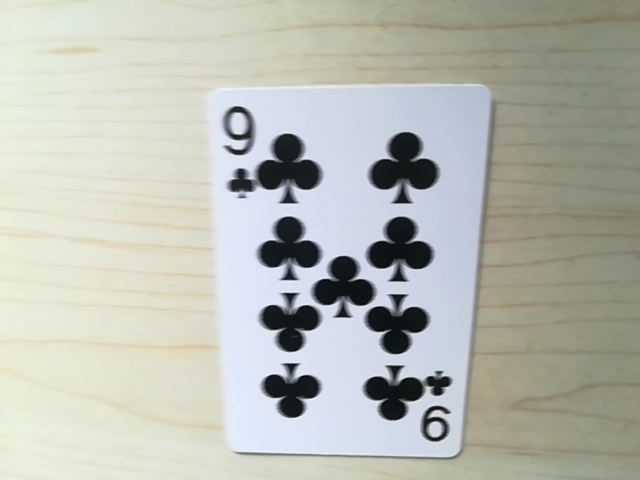mh 9: (210, 96, 254, 205), (420, 370, 461, 444)
